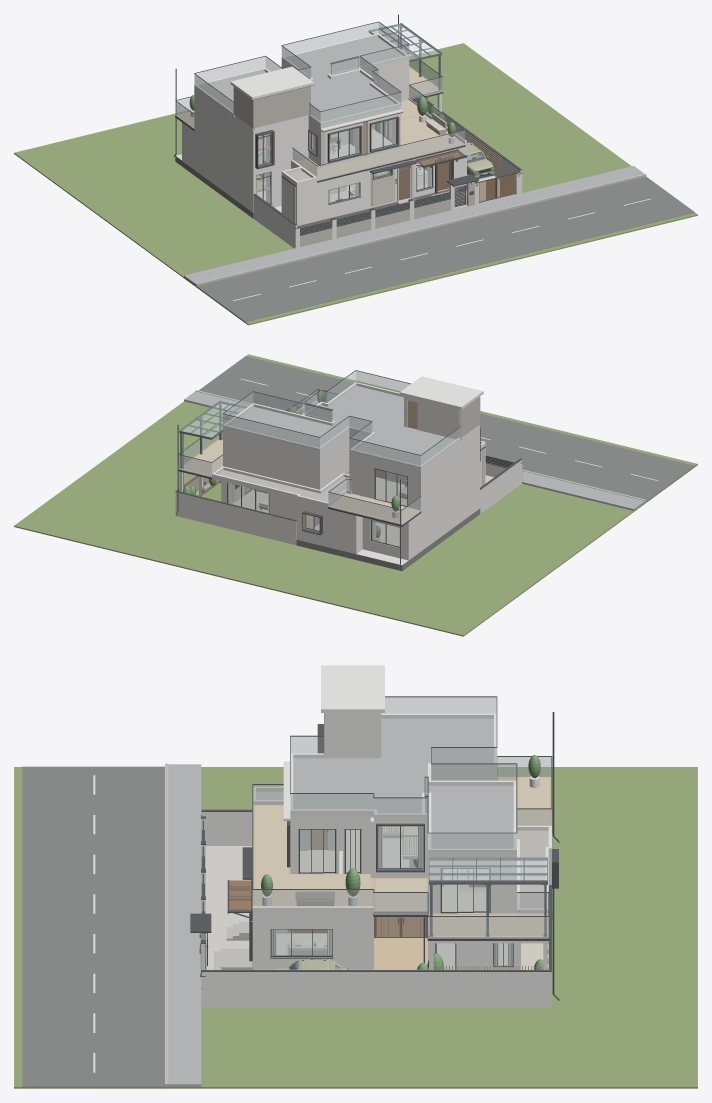
3 views of the same model, one above another, from view 1: azimuth 30°, elevation 25°; view 2: azimuth 150°, elevation 25°; view 3: azimuth 270°, elevation 25° (orthographic). The views are drawn at different scales.
Visible parts, largest first — view 1: world, custom-roof-finish-1, roof-guard-0, u-terrace-front/stone-deck, u-terrace-front-guard-0, custom-roof-edge-1, exterior-boundary-cladding-0.00, wall-e7d02531362a30d683/0, south-stair-core-1-headhouse-lid, wall-abc2f67261d10b6db3/0, wall-38f1ee24cbdae6e4df/0, wall-c3bd146f244a69c480/0 (+13 smaller); view 2: world, custom-roof-finish-1, roof-guard-0, wall-695b57e705ed7dc3f3/0, custom-roof-edge-1, wall-e7d02531362a30d683/0, south-stair-core-1-headhouse-lid, u-bedroom-balcony-guard-0, wall-abc2f67261d10b6db3/0, custom-roof-edge-0, south-stair-core-1-roof-wall-right/0, plinth-band (+16 smaller); view 3: world, custom-roof-finish-1, roof-guard-0, u-terrace-front/stone-deck, custom-roof-edge-1, front-tiled-court-1, south-stair-core-1-headhouse-lid, u-terrace-north-guard-0, u-terrace-north/stone-deck, south-stair-core-1-roof-wall-front/0, custom-roof-finish-0, u-terrace-front-guard-0 (+20 smaller).
Part boxes in pixels (x1,y1,x2,y2): world: [14, 14, 697, 325]; custom-roof-finish-1: [200, 37, 402, 121]; roof-guard-0: [194, 22, 409, 124]; u-terrace-front/stone-deck: [308, 115, 462, 178]; u-terrace-front-guard-0: [317, 103, 464, 179]; custom-roof-edge-1: [194, 33, 409, 125]; exterior-boundary-cladding-0.00: [300, 199, 450, 246]; wall-e7d02531362a30d683/0: [182, 122, 223, 190]; south-stair-core-1-headhouse-lid: [230, 66, 314, 99]; wall-abc2f67261d10b6db3/0: [217, 107, 255, 171]; wall-38f1ee24cbdae6e4df/0: [223, 152, 255, 212]; wall-c3bd146f244a69c480/0: [365, 60, 409, 101]; world: [14, 354, 697, 636]; custom-roof-finish-1: [229, 386, 455, 465]; roof-guard-0: [222, 371, 443, 468]; wall-695b57e705ed7dc3f3/0: [223, 430, 301, 484]; custom-roof-edge-1: [223, 382, 460, 469]; wall-e7d02531362a30d683/0: [406, 492, 449, 560]; south-stair-core-1-headhouse-lid: [400, 376, 483, 409]; u-bedroom-balcony-guard-0: [328, 479, 420, 523]; wall-abc2f67261d10b6db3/0: [443, 429, 479, 493]; custom-roof-edge-0: [212, 401, 485, 506]; south-stair-core-1-roof-wall-right/0: [404, 399, 460, 438]; plinth-band: [296, 508, 480, 570]; world: [14, 712, 697, 1088]; custom-roof-finish-1: [293, 718, 513, 848]; roof-guard-0: [290, 697, 516, 852]; u-terrace-front/stone-deck: [255, 806, 371, 906]; custom-roof-edge-1: [290, 713, 516, 853]; front-tiled-court-1: [205, 846, 252, 951]; south-stair-core-1-headhouse-lid: [321, 665, 384, 712]; u-terrace-north-guard-0: [428, 893, 548, 936]; u-terrace-north/stone-deck: [428, 914, 548, 937]; south-stair-core-1-roof-wall-front/0: [326, 713, 379, 758]; custom-roof-finish-0: [256, 791, 548, 908]; u-terrace-front-guard-0: [252, 890, 373, 906].
Bounding box in the file's own units: 36.29 × 9.58 × 32.76.
